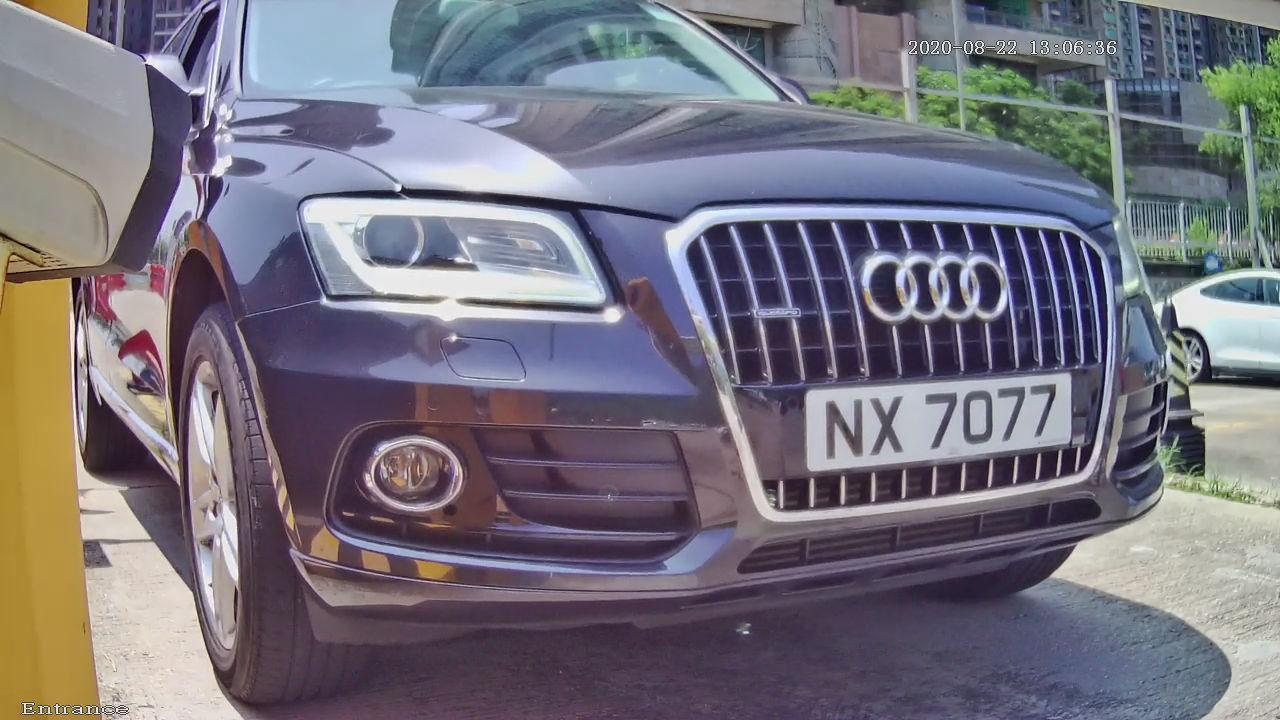Car: (52, 17, 1212, 711)
License Plate: (747, 306, 1118, 520)
